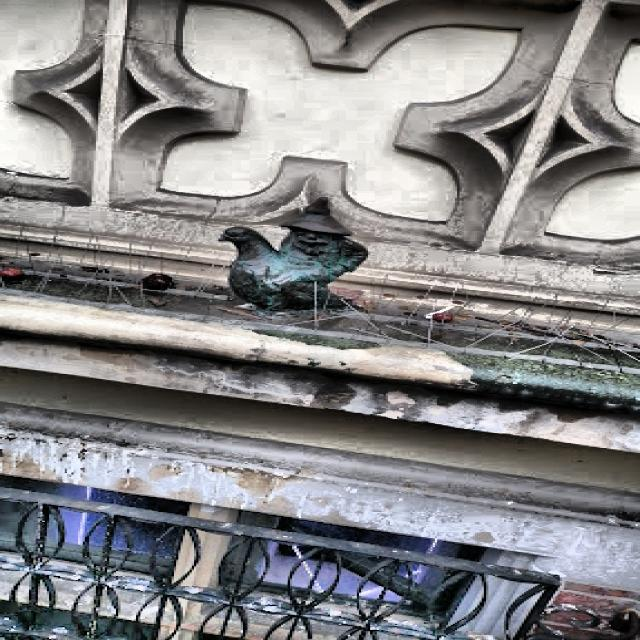Golebnik: (219, 198, 370, 312)
